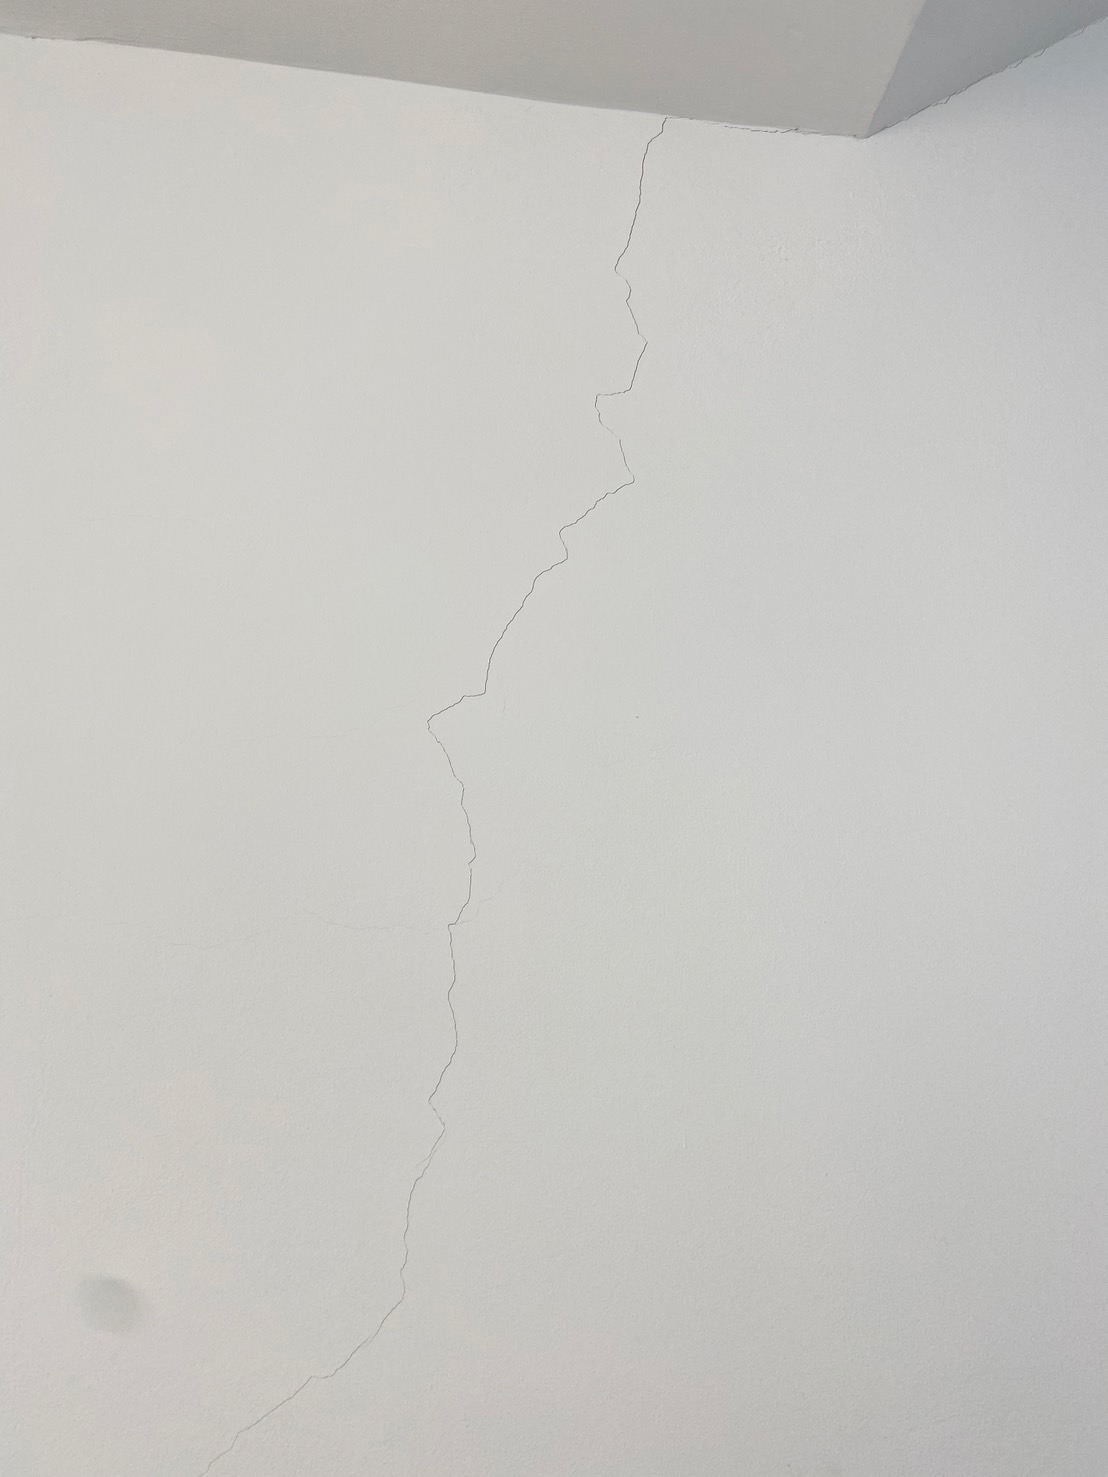Low: (189, 113, 684, 1477)
